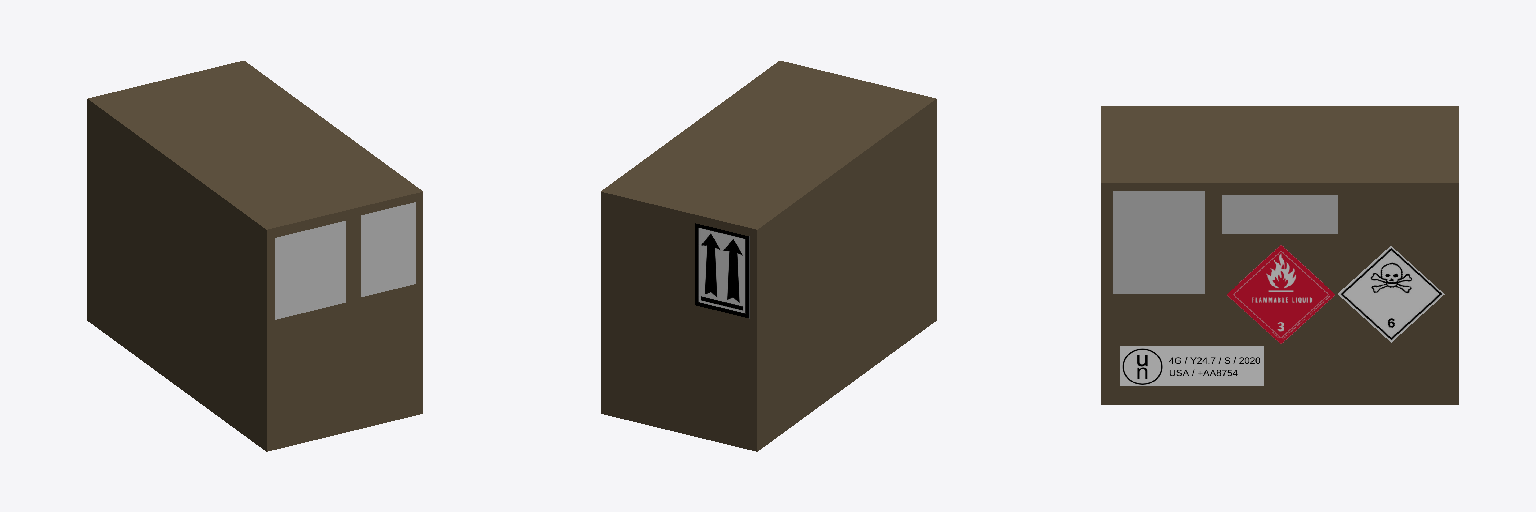
3 views of the same model, side by side, from view 1: azimuth 30°, elevation 25°; view 2: azimuth 150°, elevation 25°; view 3: azimuth 270°, elevation 25° (orthographic).
Visible parts, largest first — view 1: Cube, Screenshot_2025-04-01_151141, Screenshot_2025-04-02_141838; view 2: Cube, image30; view 3: Cube, Screenshot_2025-04-02_141724, image29, image32, image53, text1.
Boxes of the visible parts, box(x1,y1,x2,y2) form: Cube: box(87, 61, 422, 451); Screenshot_2025-04-01_151141: box(275, 221, 345, 319); Screenshot_2025-04-02_141838: box(361, 202, 415, 296); Cube: box(601, 61, 936, 451); image30: box(695, 223, 749, 318); Cube: box(1101, 106, 1458, 404); Screenshot_2025-04-02_141724: box(1113, 191, 1204, 293); image29: box(1120, 346, 1263, 385); image32: box(1227, 245, 1334, 343); image53: box(1338, 246, 1444, 342); text1: box(1222, 195, 1337, 233).
Bounding box in the file's own units: 2.02 × 2.71 × 3.98.
Materials: 9 (4 with a texture image).